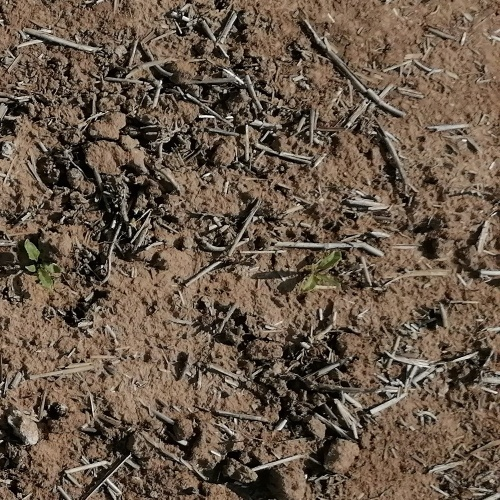beet: (303, 250, 342, 292), (25, 240, 56, 290)
